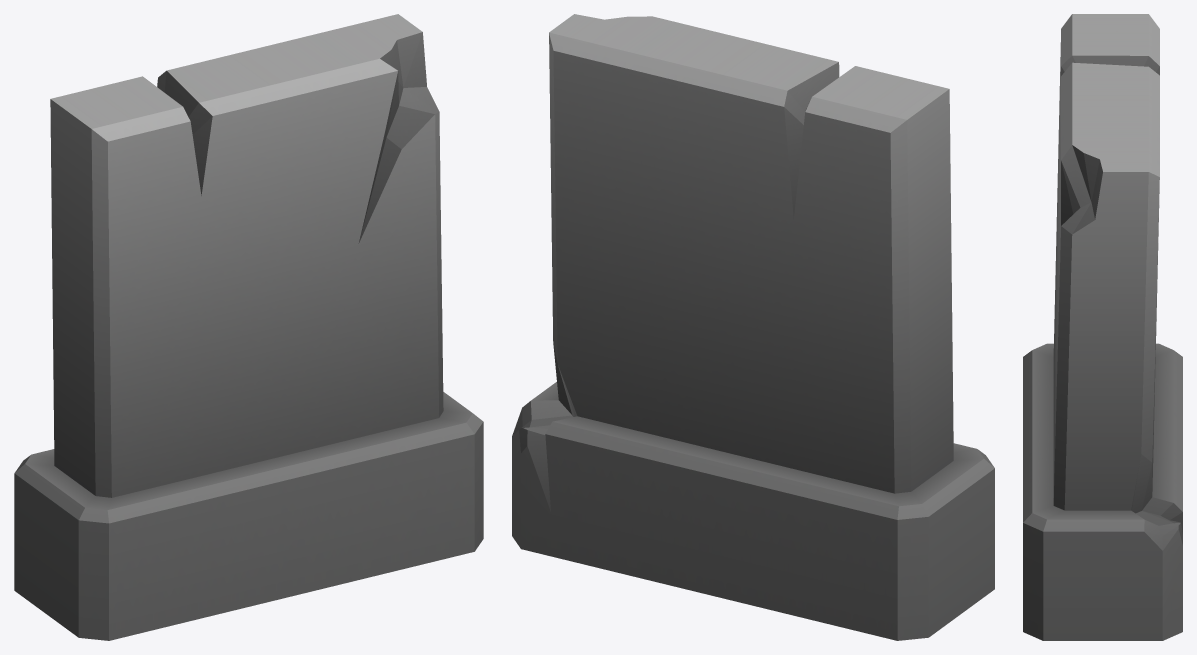
The model's file is TombstoneDamaged1.fbx.
3 views of the same model, side by side, from view 1: azimuth 30°, elevation 25°; view 2: azimuth 150°, elevation 25°; view 3: azimuth 270°, elevation 25° (orthographic). The views are drawn at different scales.
Visible parts, largest first — view 1: TombstoneDamaged1; view 2: TombstoneDamaged1; view 3: TombstoneDamaged1.
Boxes of the visible parts, box(x1,y1,x2,y2) form: TombstoneDamaged1: box(14, 14, 483, 640); TombstoneDamaged1: box(512, 14, 994, 640); TombstoneDamaged1: box(1023, 14, 1182, 640).
Size of the model in its own units: 1.16 by 1.35 by 0.4277.
Materials: 1 (1 with a texture image).
